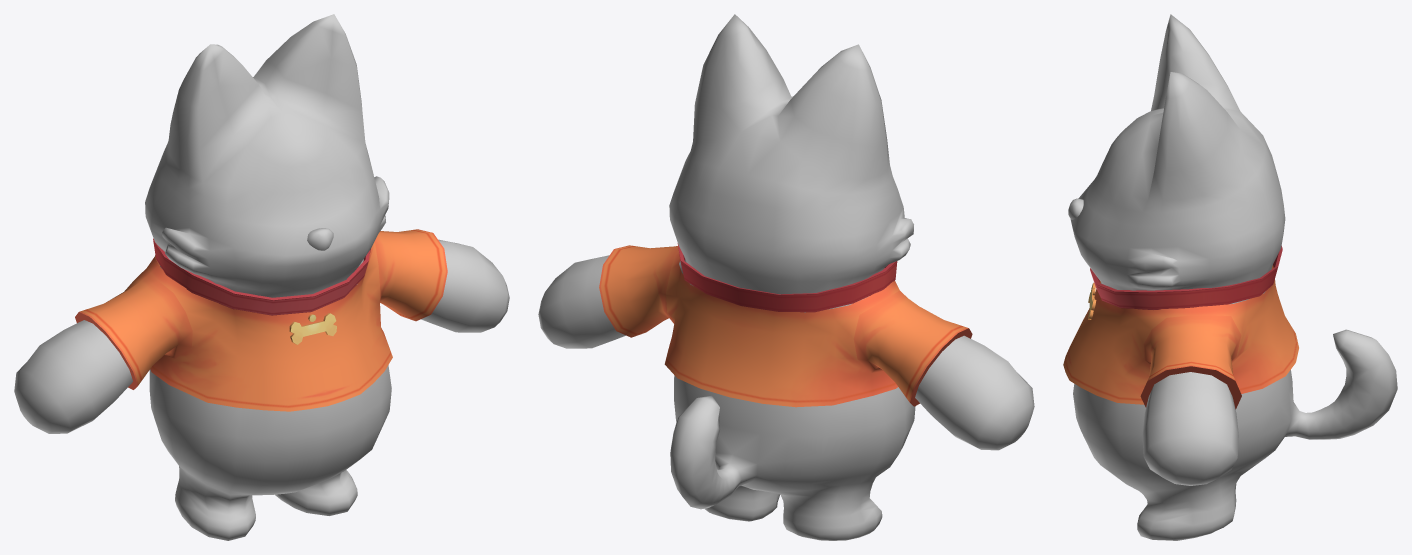
The model's file is dog_Lv2.fbx.
3 views of the same model, side by side, from view 1: azimuth 30°, elevation 25°; view 2: azimuth 150°, elevation 25°; view 3: azimuth 270°, elevation 25° (orthographic). The views are drawn at different scales.
Visible parts, largest first — view 1: dog, clothes1, necklace; view 2: dog, clothes1, necklace; view 3: dog, clothes1, necklace.
Part boxes in pixels (x1=…): dog: x1=14, y1=14, x2=509, y2=540; clothes1: x1=75, y1=229, x2=447, y2=411; necklace: x1=153, y1=238, x2=370, y2=344; dog: x1=538, y1=14, x2=1034, y2=540; clothes1: x1=599, y1=245, x2=972, y2=407; necklace: x1=677, y1=243, x2=897, y2=312; dog: x1=1068, y1=14, x2=1397, y2=540; clothes1: x1=1063, y1=265, x2=1298, y2=409; necklace: x1=1088, y1=246, x2=1282, y2=319.
Bounding box in the file's own units: 162 × 159 × 103.
